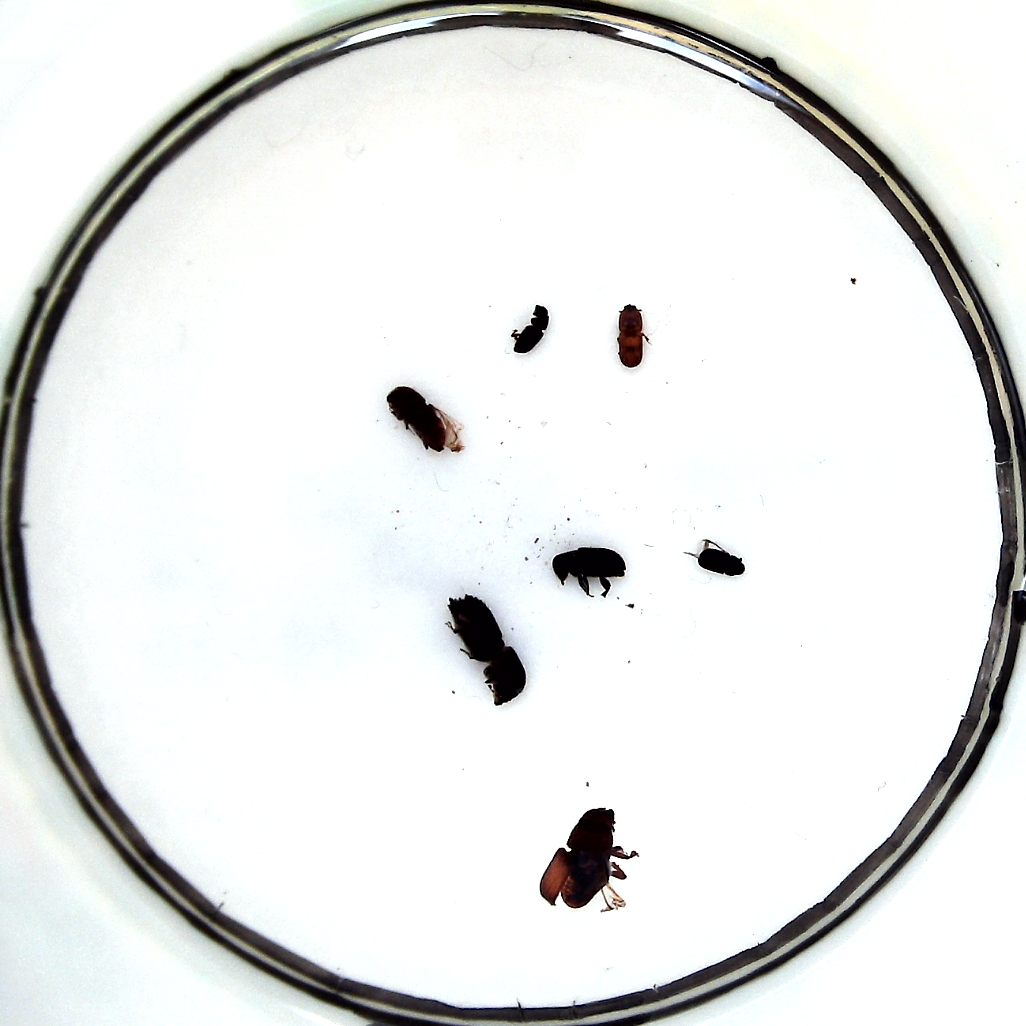Boerner: (448, 594, 531, 706)
Leconte: (537, 806, 625, 909)
acuminatus: (615, 305, 646, 370)
armandi: (384, 381, 452, 452), (552, 546, 625, 600)
coleoptera: (513, 302, 549, 357), (696, 545, 746, 579)
